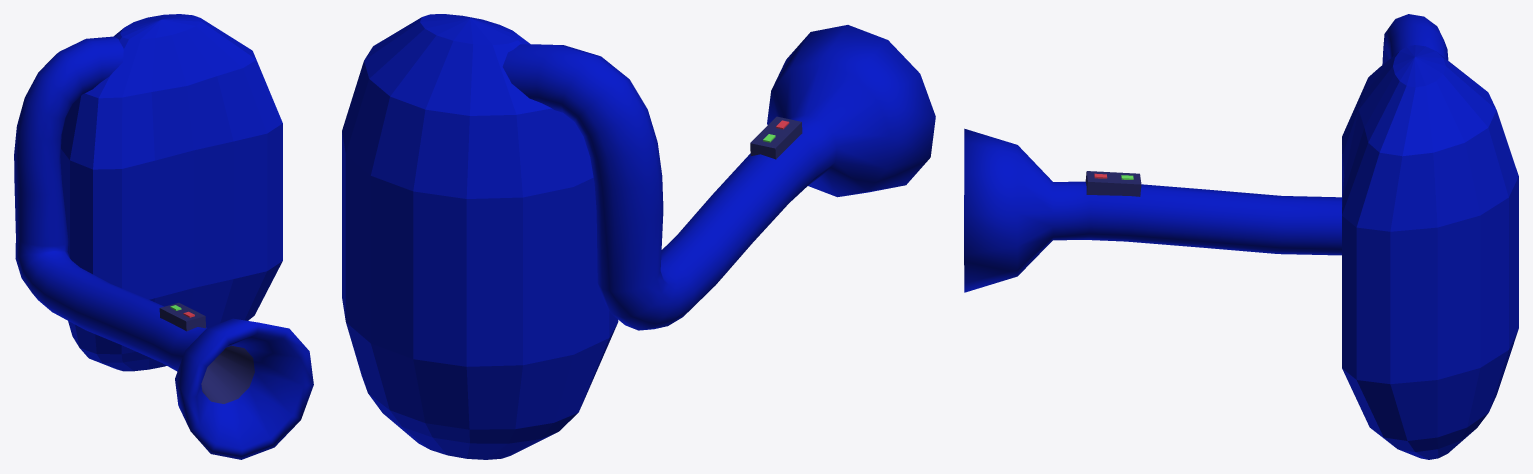
Rendered from Hoover.fbx.
3 views of the same model, side by side, from view 1: azimuth 30°, elevation 25°; view 2: azimuth 150°, elevation 25°; view 3: azimuth 270°, elevation 25° (orthographic). The views are drawn at different scales.
Parts seen in each view (by area): view 1: Hoover; view 2: Hoover; view 3: Hoover.
Boxes of the visible parts, x1,y1,x2,y2 form: Hoover: [14, 14, 313, 459]; Hoover: [342, 14, 935, 459]; Hoover: [964, 14, 1518, 459].
Size of the model in its own units: 116 by 139 by 179.
